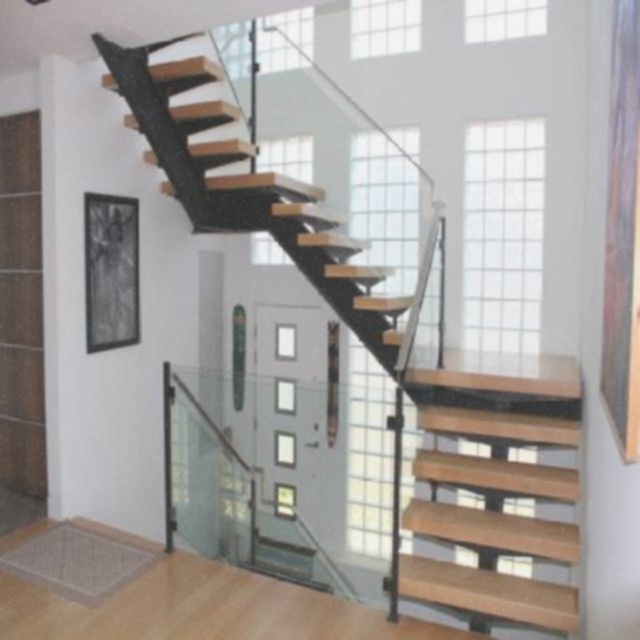stair: (70, 19, 605, 636)
